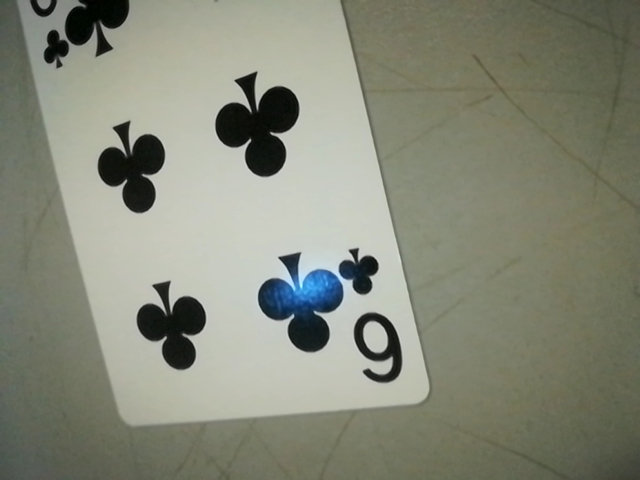mh 6: (334, 239, 415, 395)
